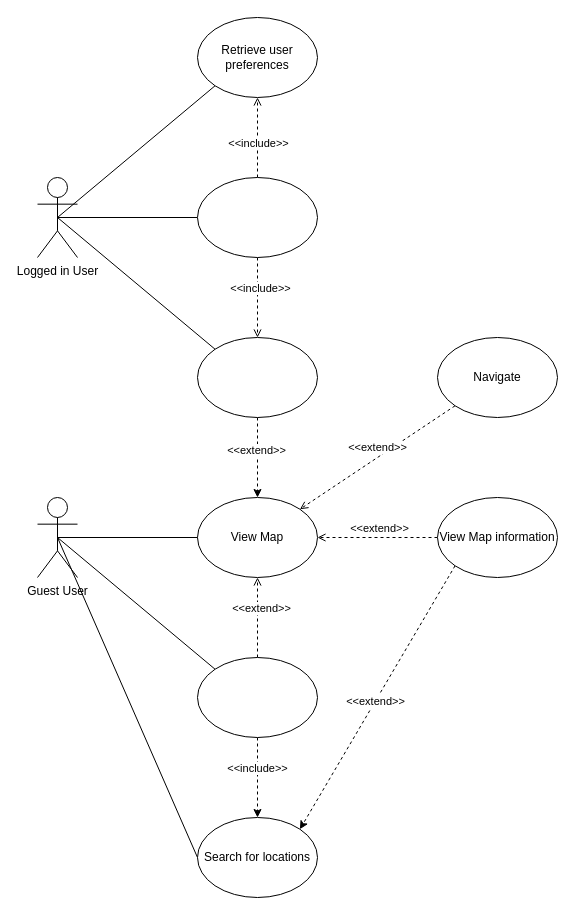
This 575x915 diagram has some shape labels left out. The centre of each missing label's shape, as x and y in pixels:
"Authenticate" belongs at pixel 257 217.
"Retrieve saved landmarks" belongs at pixel 257 377.
"View location information" belongs at pixel 257 697.
